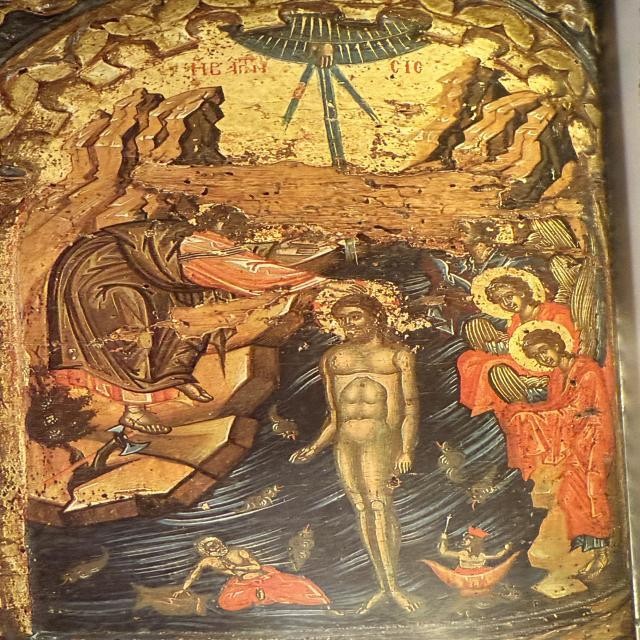angel: (487, 316, 625, 573)
aura: (313, 278, 409, 342), (465, 267, 557, 321), (507, 321, 583, 369)
christ: (270, 272, 456, 626)
wing: (484, 361, 534, 410), (451, 315, 507, 355)
